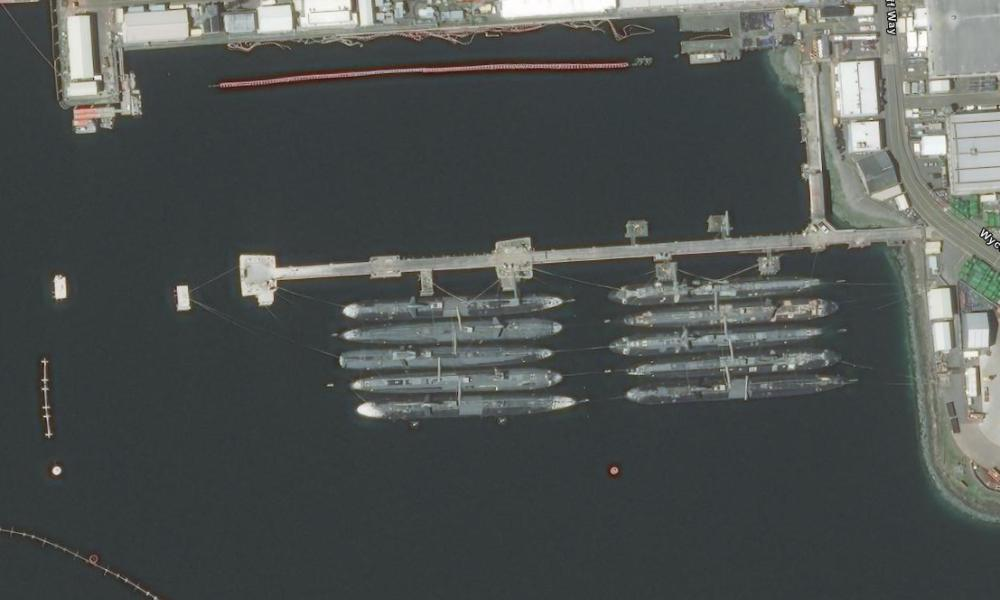submarine: (615, 370, 877, 425), (349, 389, 590, 448), (311, 274, 584, 322), (602, 259, 855, 305), (607, 320, 863, 362), (305, 321, 587, 355), (331, 368, 584, 396)
